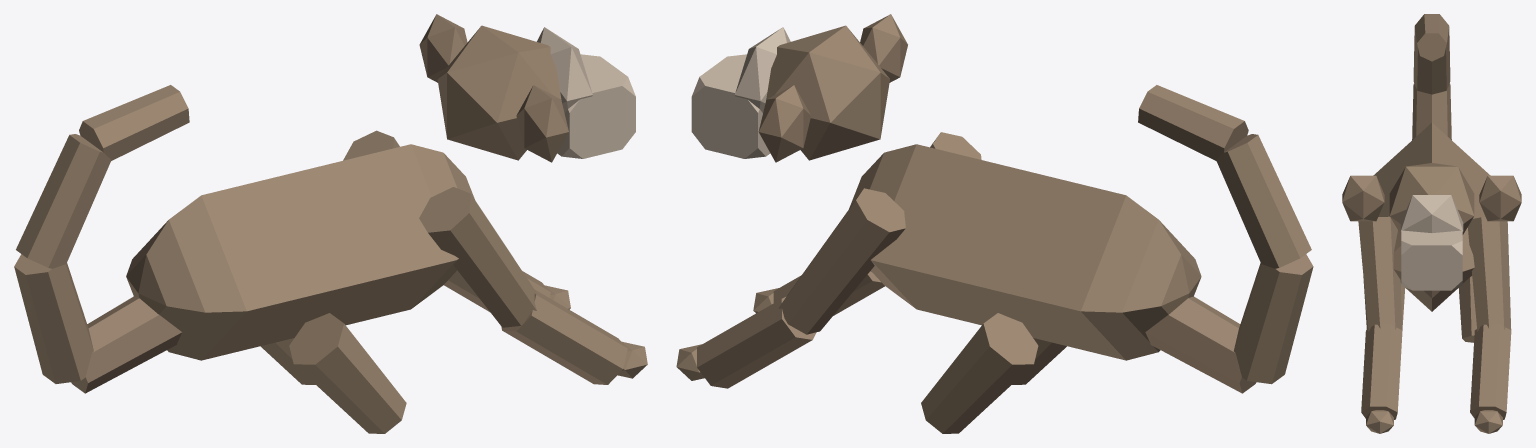
3 renders of one model, left to right at view 1: azimuth 30°, elevation 25°; view 2: azimuth 150°, elevation 25°; view 3: azimuth 270°, elevation 25°, orthographic. The views are drawn at different scales.
Parts seen in each view (by area): view 1: part0, part1, part9, part13, part16, part15, part10, part5, part14, part17, part3, part4 (+5 smaller); view 2: part0, part1, part6, part12, part16, part15, part5, part14, part7, part17, part2, part4 (+5 smaller); view 3: part0, part6, part9, part5, part10, part7, part1, part4, part2, part3, part15, part16 (+5 smaller).
Boxes of the visible parts, bbox=[...] form: part0: bbox=[126, 144, 474, 360]; part1: bbox=[437, 25, 561, 160]; part9: bbox=[419, 187, 537, 327]; part13: bbox=[289, 313, 406, 433]; part16: bbox=[16, 134, 111, 268]; part15: bbox=[14, 254, 93, 383]; part10: bbox=[501, 289, 627, 384]; part5: bbox=[557, 54, 635, 158]; part14: bbox=[71, 296, 182, 393]; part17: bbox=[79, 85, 189, 160]; part3: bbox=[516, 85, 568, 162]; part4: bbox=[537, 27, 592, 113]; part0: bbox=[849, 144, 1201, 360]; part1: bbox=[766, 25, 889, 160]; part6: bbox=[779, 188, 905, 334]; part12: bbox=[921, 313, 1038, 433]; part16: bbox=[1216, 134, 1311, 268]; part15: bbox=[1234, 254, 1313, 384]; part5: bbox=[691, 54, 770, 158]; part14: bbox=[1145, 296, 1256, 393]; part7: bbox=[697, 296, 816, 388]; part17: bbox=[1138, 85, 1248, 160]; part2: bbox=[758, 85, 810, 162]; part4: bbox=[735, 27, 790, 112]; part0: bbox=[1373, 123, 1490, 311]; part6: bbox=[1467, 217, 1511, 331]; part9: bbox=[1358, 216, 1402, 331]; part5: bbox=[1401, 230, 1462, 290]; part10: bbox=[1361, 324, 1402, 419]; part7: bbox=[1470, 324, 1511, 419]; part1: bbox=[1389, 163, 1474, 234]; part4: bbox=[1400, 195, 1463, 232]; part2: bbox=[1479, 175, 1521, 221]; part3: bbox=[1342, 175, 1384, 221]; part15: bbox=[1412, 84, 1451, 139]; part16: bbox=[1413, 27, 1450, 94].
Size of the model in its own units: 4.11 by 2.4 by 1.52.
